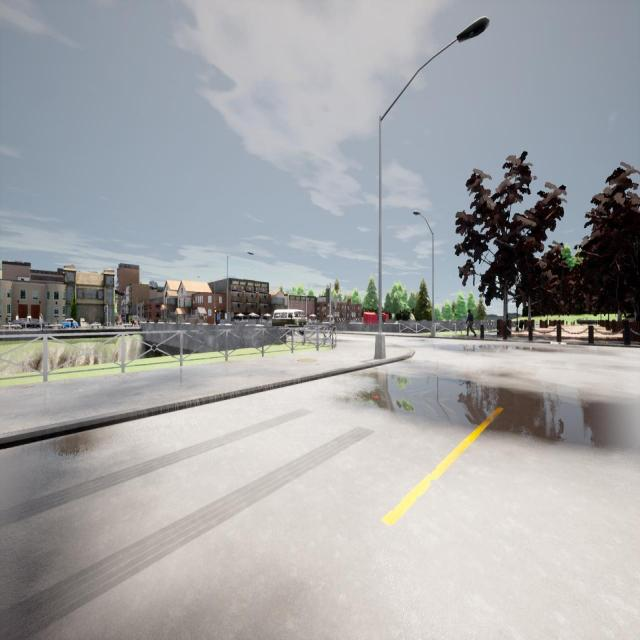Pedestrian: (465, 309, 476, 337)
Vehicle: (272, 310, 308, 326), (10, 317, 44, 328), (62, 318, 78, 328)
traffic_light: (325, 288, 330, 304), (104, 306, 107, 314), (214, 309, 217, 313)
